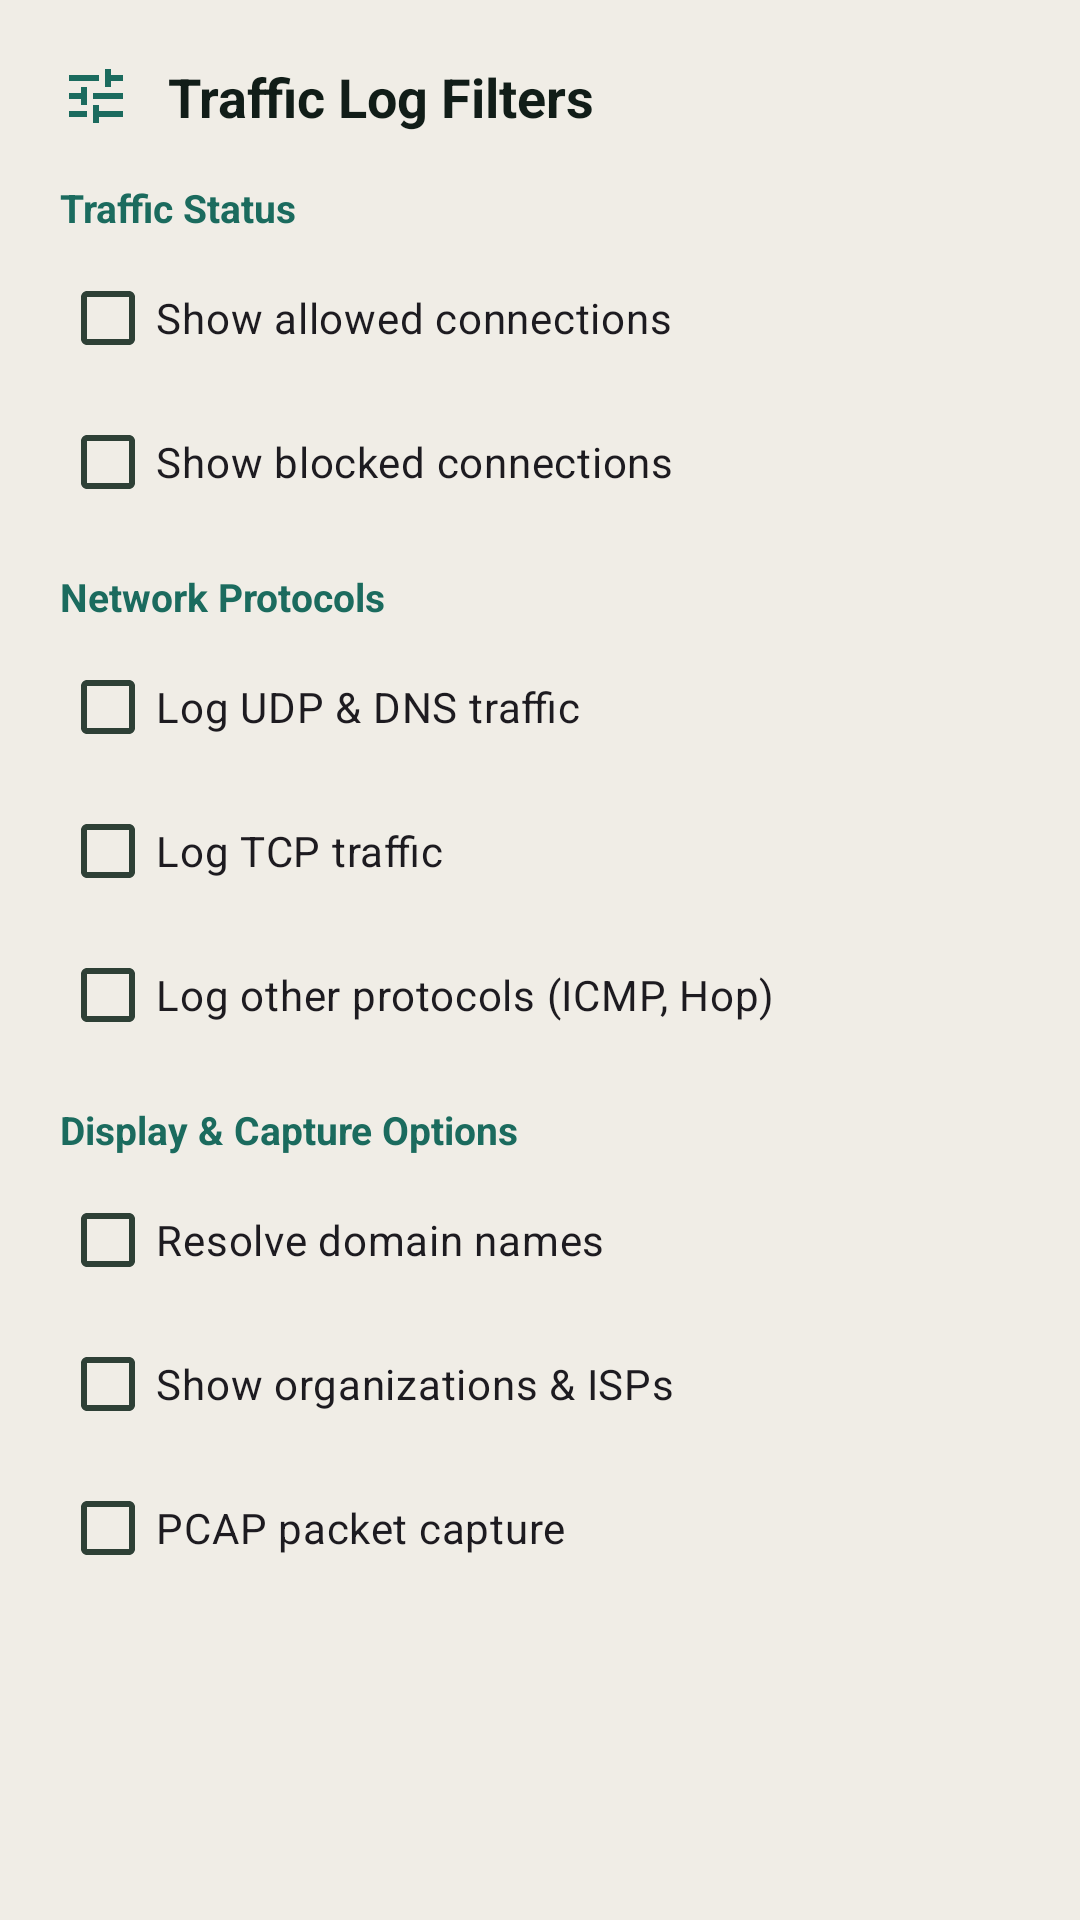

Screen size 1080x1920. Icon name, then its box in pixels as (x1, y1, x2, y2):
tune: (69, 69, 123, 123)
